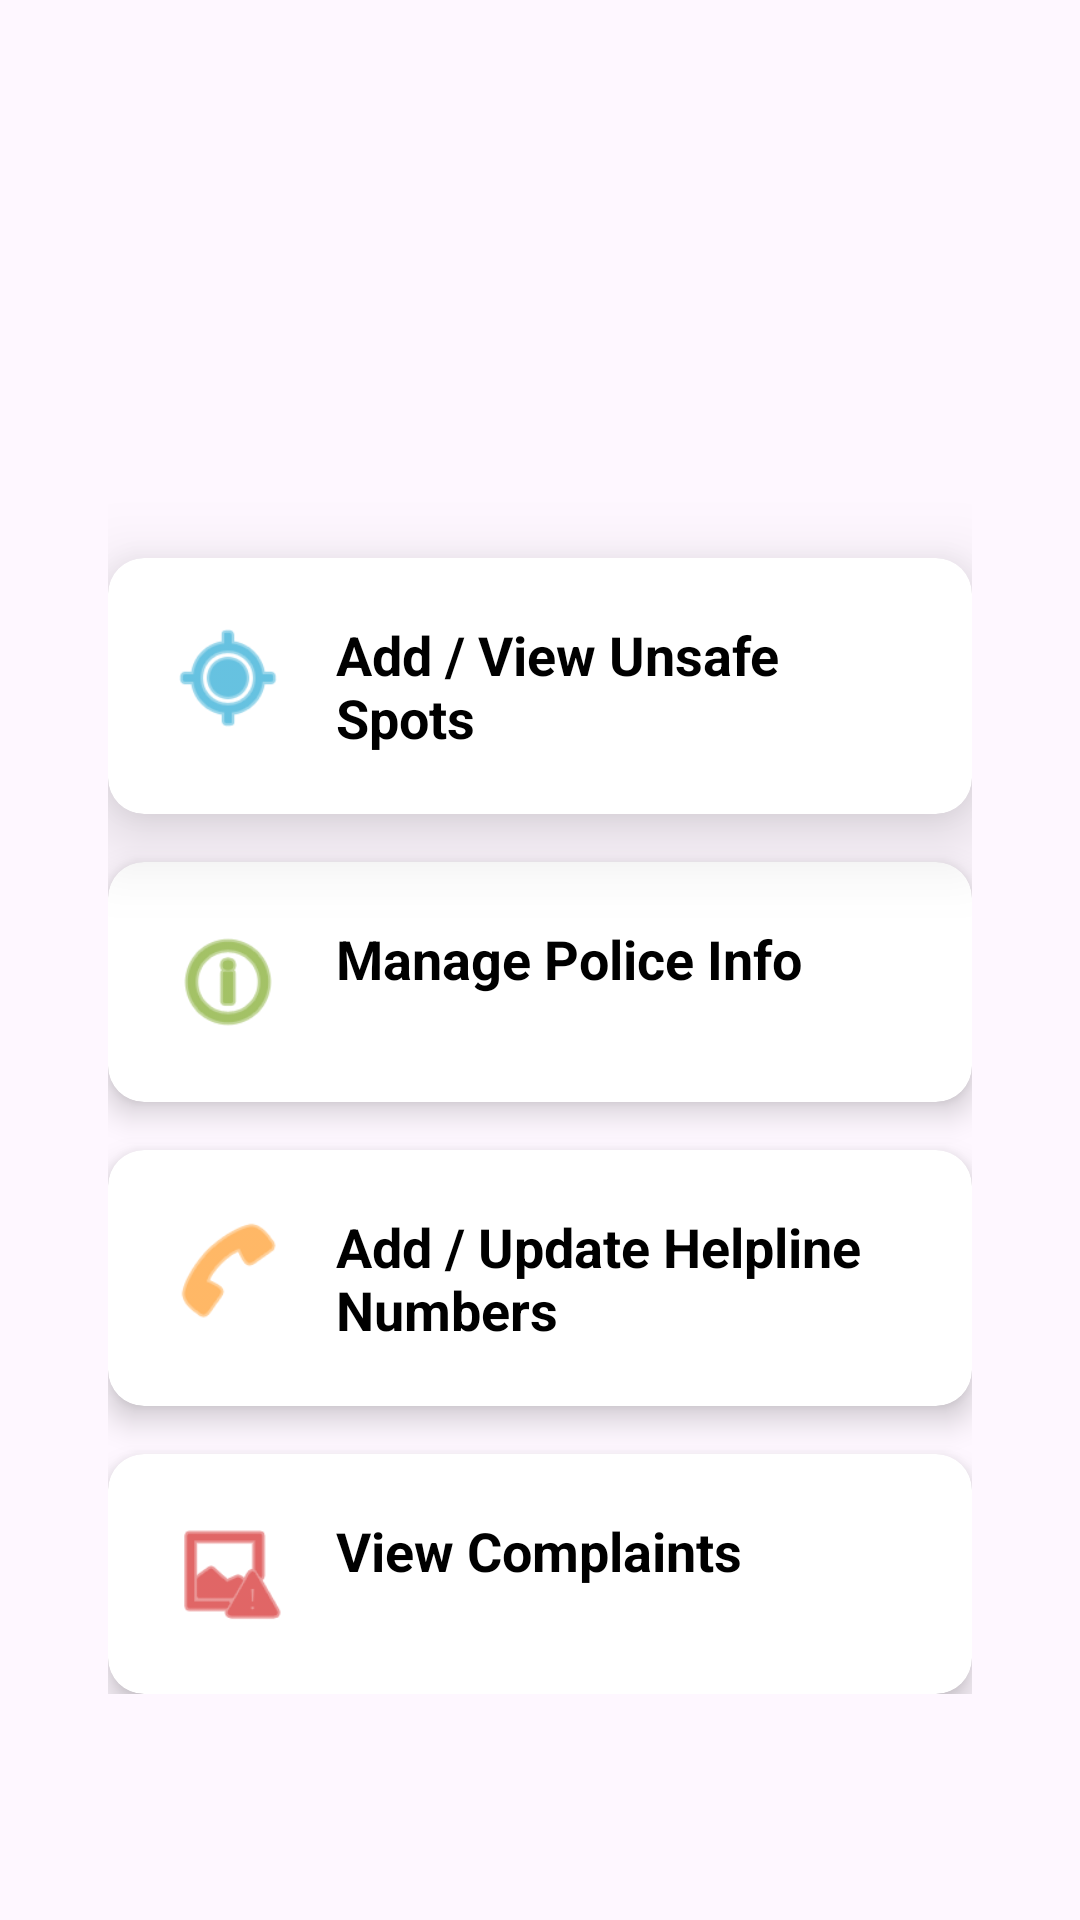

Where icons sit on this 1080px x 1920px app screen, as (x1, y1, x2, y2):
call: (182, 1224, 276, 1318)
info details: (185, 939, 271, 1025)
mylocation: (180, 630, 276, 726)
report: (184, 1530, 281, 1619)
